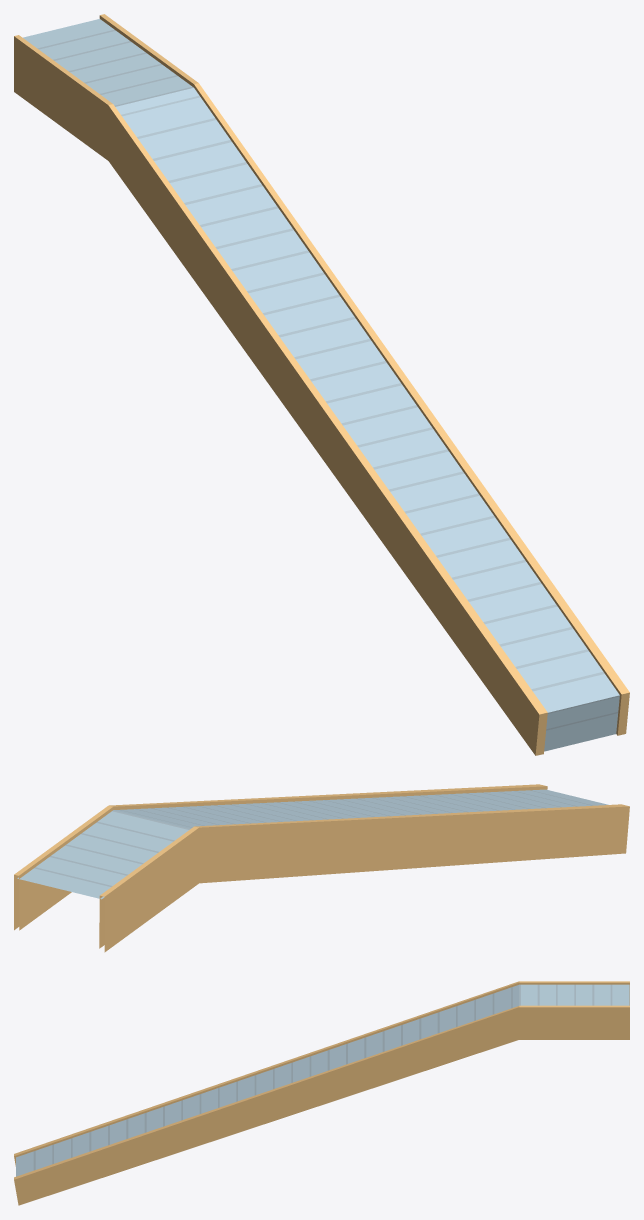
The model's file is Escalator.fbx.
The picture shows the model from 3 angles, top to bottom: view 1: azimuth 30°, elevation 25°; view 2: azimuth 150°, elevation 25°; view 3: azimuth 270°, elevation 25°; orthographic projection. The views are drawn at different scales.
Visible parts, largest first — view 1: Escalator; view 2: Escalator; view 3: Escalator.
Boxes of the visible parts, x1=… form: Escalator: x1=14, y1=14, x2=629, y2=755; Escalator: x1=14, y1=784, x2=629, y2=952; Escalator: x1=14, y1=981, x2=629, y2=1205.
Size of the model in its own units: 1358 by 4834 by 13587.
